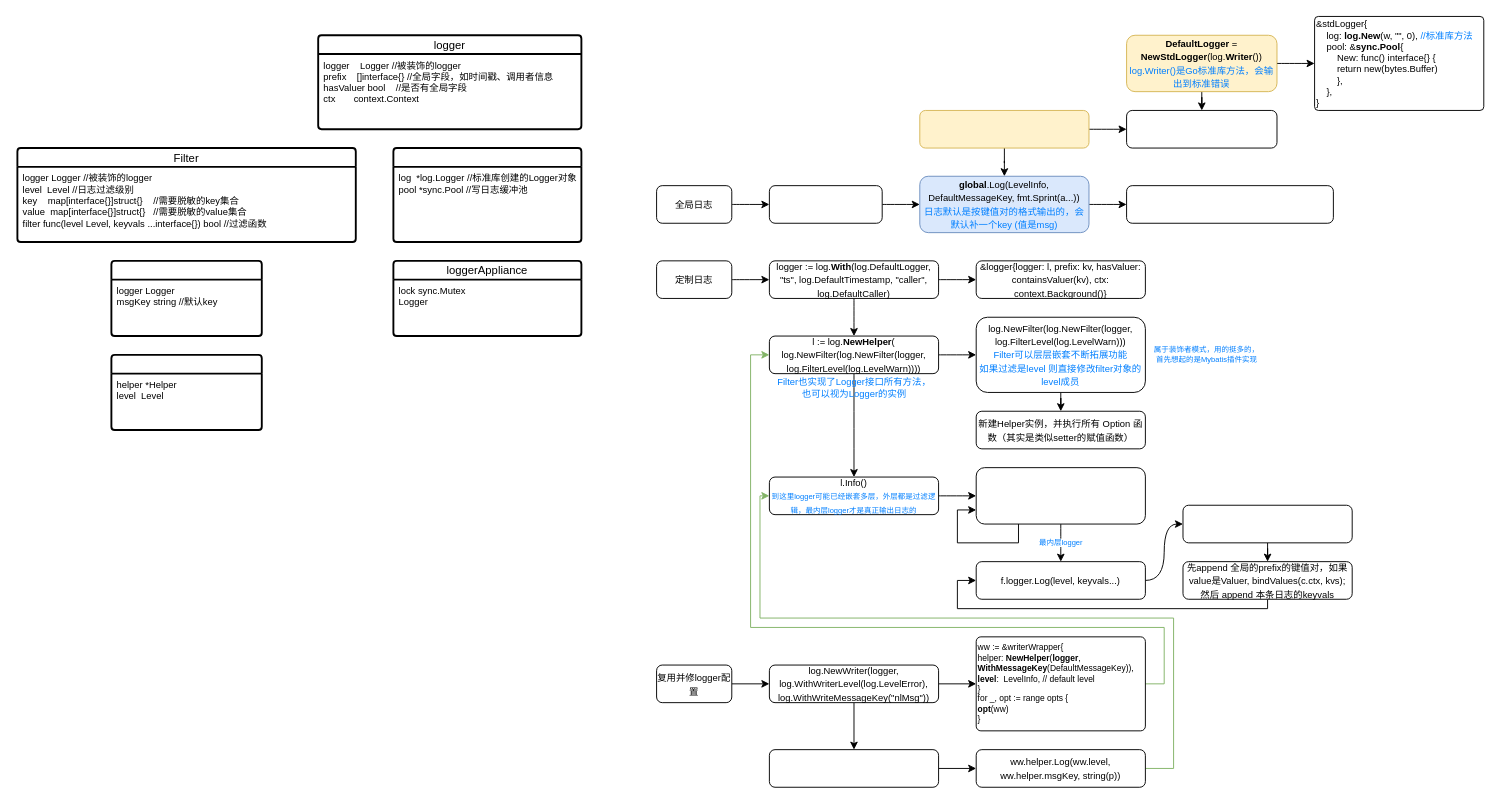
The diagram is 1500 pixels wide and 804 high, and some of its shapes have lost their labels. Each missing label, with the box of its shape:
global = &loggerAppliance{}: (919, 110, 1089, 148)
Helper: (110, 259, 262, 337)
init: global.SetLogger( DefaultLogger ): (1126, 110, 1277, 148)
kvs := make([]interface{}, 0, len(c.prefix)+len(keyvals)): (1182, 504, 1352, 543)
log.Info() 全局日志: (768, 185, 882, 223)
StdLogger: (392, 147, 582, 243)
w.Write([]byte("Hello")): (768, 749, 939, 787)
WriterWrapper: (110, 353, 262, 431)
先检查keyvals数组长度； 从缓冲池中获取Buffer, 将日志数据写入Buffer； 将Buffer数据写入Logger的Writer，回收Buffer。: (1126, 185, 1333, 223)
日志等级过滤； 执行过滤函数（如果过滤的是level，过滤函数是空的）； 按 key value 对日志脱敏处理: (975, 467, 1145, 524)
